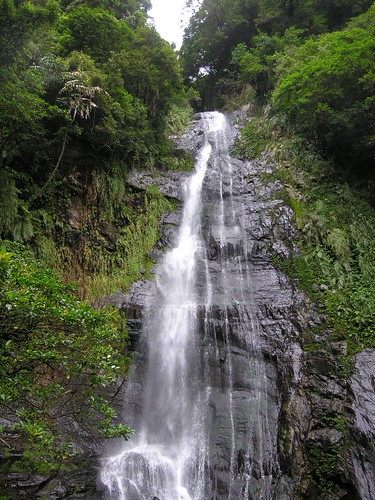wufengciWaterfall: (71, 92, 299, 500)
